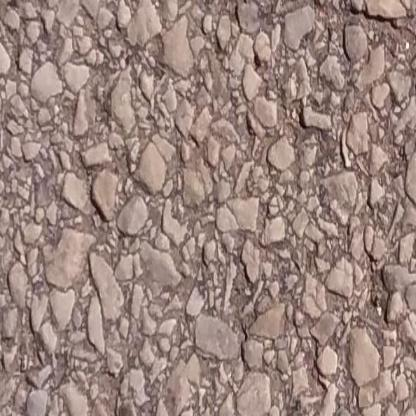Cracks: (341, 5, 416, 57)
